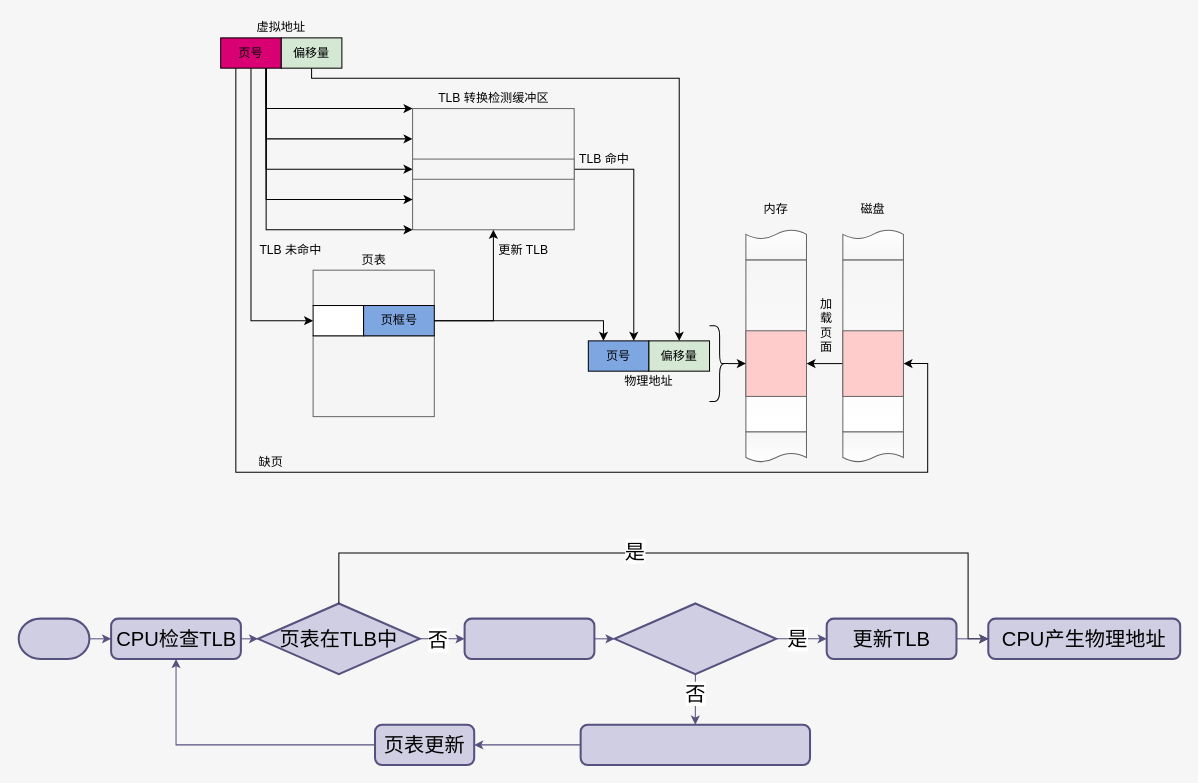
The diagram is 1198 pixels wide and 783 high, and some of its shapes have lost their labels. The shapes that lost their labels are listed below. From the top down, each one's centre as x and y in pixels, then its label:
At [338,320]: "控制位".
At [53,638]: "开始".
At [529,638]: "访问页表".
At [695,638]: "页在内存中".
At [695,744]: "CPU从磁盘读取页到内存".
